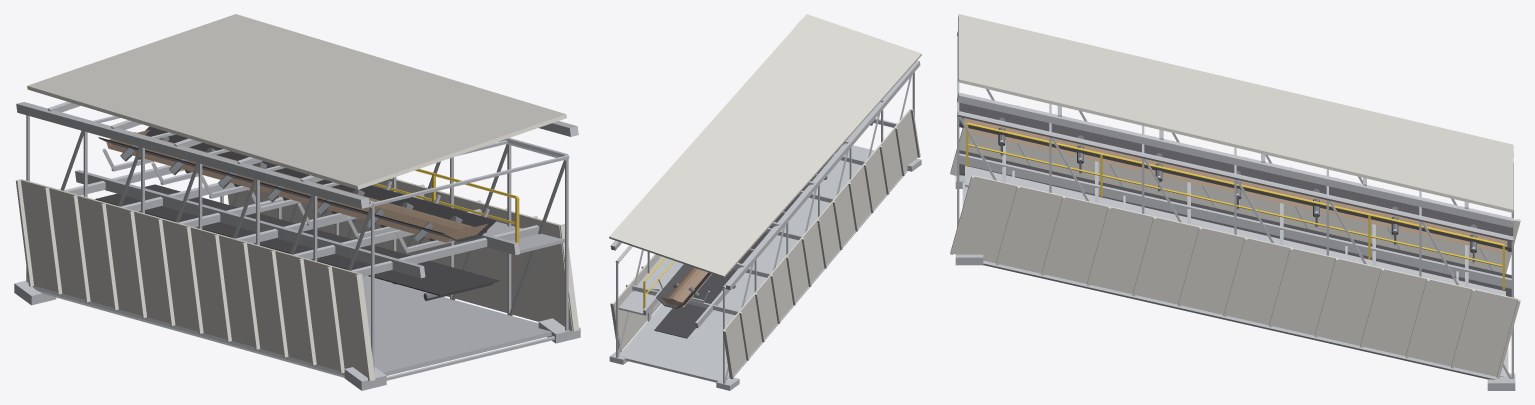
Rendered from ore-processing-and-haulage-plant-conveyor-gallery-incl-4a3a6249.glb.
The picture shows the model from 3 angles, left to right: view 1: azimuth 30°, elevation 25°; view 2: azimuth 150°, elevation 25°; view 3: azimuth 270°, elevation 25°; orthographic projection. The views are drawn at different scales.
Parts seen in each view (by area): view 1: conveyor-gallery-incline; view 2: conveyor-gallery-incline; view 3: conveyor-gallery-incline.
Boxes of the visible parts, x1,y1,x2,y2 form: conveyor-gallery-incline: (14, 14, 580, 390); conveyor-gallery-incline: (609, 14, 921, 390); conveyor-gallery-incline: (950, 14, 1520, 390).
Size of the model in its own units: 4.49 by 7.32 by 12.33.
